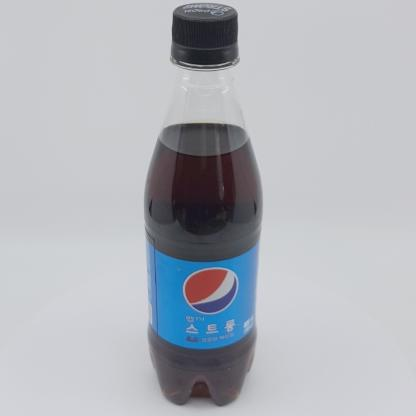-------400ML: (144, 2, 263, 407)
